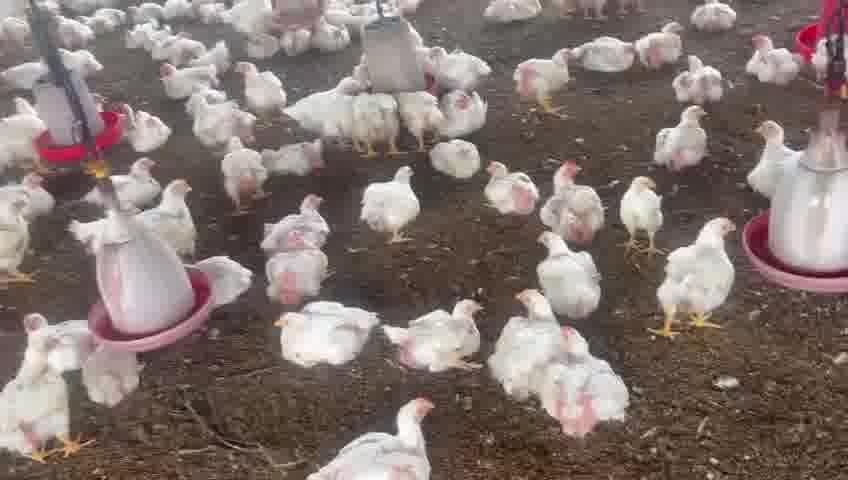Normal: (299, 397, 445, 480), (651, 215, 739, 345), (3, 334, 95, 458), (539, 326, 632, 440), (486, 282, 567, 408), (383, 299, 484, 381), (523, 236, 596, 323), (360, 159, 431, 248), (279, 306, 374, 367), (541, 161, 607, 247), (609, 174, 678, 249), (518, 47, 581, 125), (471, 154, 541, 223), (267, 230, 331, 304), (255, 185, 330, 248), (148, 174, 207, 250), (654, 105, 710, 182), (347, 92, 404, 160), (670, 48, 724, 115), (746, 34, 801, 94), (233, 56, 287, 115), (121, 102, 176, 159), (218, 141, 267, 200), (156, 56, 226, 95), (639, 12, 682, 75), (428, 133, 480, 184), (440, 85, 481, 142)
